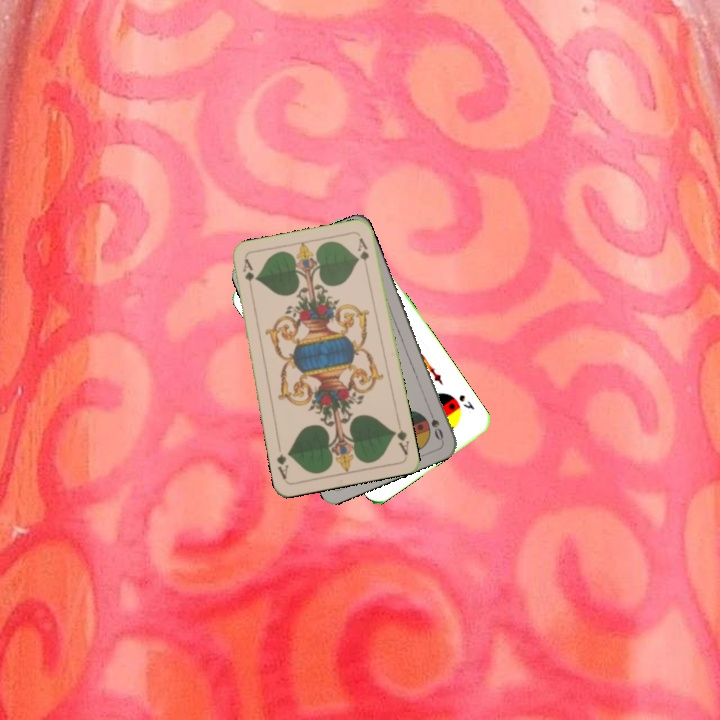GA: (389, 417, 412, 458), (239, 255, 256, 296)
SK: (455, 390, 477, 412)
SO: (424, 404, 446, 443)
